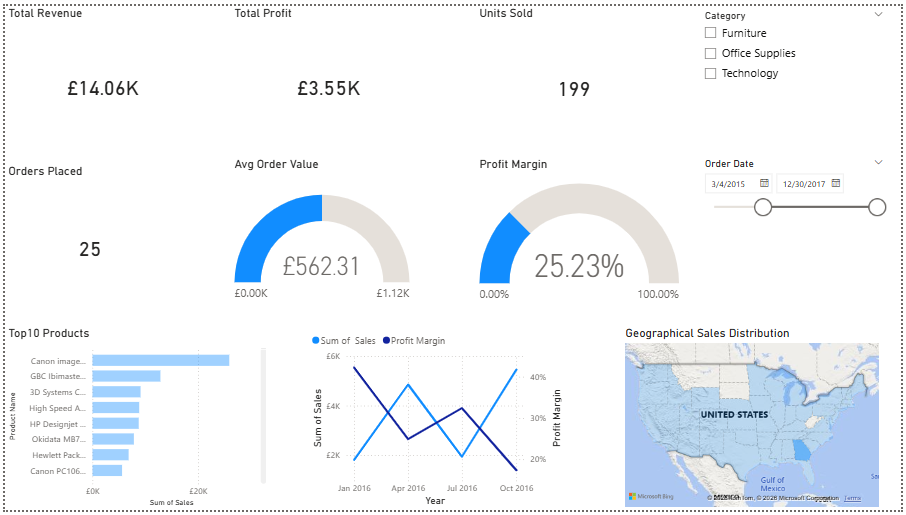

Layout of this report page (visuals, bound fields, positions):
{"tool":"powerbi","page":{"name":"Page 1","canvas":[1280,720],"ordinal":0},"visuals":[{"type":"card","title":"Total Revenue","fields":{"Values":["Sum(Cleaned Data (2). Sales )"]},"box":[0,0,280,211.7],"z":0},{"type":"card","title":"Total Profit","fields":{"Values":["Sum(Cleaned Data (2). Profit )"]},"box":[323.5,0,279.6,212.1],"z":1000},{"type":"card","title":"Units Sold","fields":{"Values":["Sum(Cleaned Data (2).Quantity)"]},"box":[673.3,0,280,215],"z":2000},{"type":"card","title":"Orders Placed","fields":{"Values":["Cleaned Data.Total\\ Orders"]},"box":[0,225,243.3,220],"z":3000},{"type":"gauge","fields":{"Y":["Cleaned Data.$$Profitt\\ Margin"]},"box":[673.3,215,295,230],"z":4000},{"type":"gauge","fields":{"Y":["Cleaned Data.Avg Order Value"]},"box":[323.3,215,260,245],"z":5000},{"type":"filledMap","title":"Geographical Sales Distribution","fields":{"Category":["Cleaned Data (2).State"]},"box":[881.7,456.7,371.7,263.3],"z":6000},{"type":"clusteredBarChart","title":"Top10 Products","fields":{"Category":["Cleaned Data (2).Product Name"],"Y":["Sum(Cleaned Data (2). Sales )"]},"box":[0,456.7,378.3,263.3],"z":7000},{"type":"lineChart","fields":{"Y":["Sum(Cleaned Data (2). Sales )"],"Y2":["Cleaned Data.Profit Margin"],"Category":["Cleaned Data (2).Order Date.Variation.Date Hierarchy.Year","Cleaned Data (2).Order Date.Variation.Date Hierarchy.Quarter","Cleaned Data (2).Order Date.Variation.Date Hierarchy.Month","Cleaned Data (2).Order Date.Variation.Date Hierarchy.Day"]},"box":[433.3,456.7,366.7,263.3],"z":8000},{"type":"slicer","fields":{"Values":["Cleaned Data (2).Category"]},"box":[986.7,0,280,183.3],"z":9000},{"type":"slicer","fields":{"Values":["Cleaned Data (2).Order Date"]},"box":[986.7,211.7,280,211.7],"z":10000}]}

Visuals, with their boxes in screenshot pixels (x1, y1, x2, y2), scaled from the page's 1280x720 canvas onto the 906x515 screenshot:
"Total Revenue" card: region(0, 0, 198, 151)
"Total Profit" card: region(229, 0, 427, 152)
"Units Sold" card: region(477, 0, 675, 154)
"Orders Placed" card: region(0, 161, 172, 318)
gauge - Cleaned Data.$$Profitt\ Margin: region(477, 154, 685, 318)
gauge - Cleaned Data.Avg Order Value: region(229, 154, 413, 329)
"Geographical Sales Distribution" filledMap: region(624, 327, 887, 514)
"Top10 Products" clusteredBarChart: region(0, 327, 268, 514)
lineChart - Sum(Cleaned Data (2). Sales ) x Cleaned Data.Profit Margin: region(307, 327, 566, 514)
slicer - Cleaned Data (2).Category: region(698, 0, 897, 131)
slicer - Cleaned Data (2).Order Date: region(698, 151, 897, 303)
